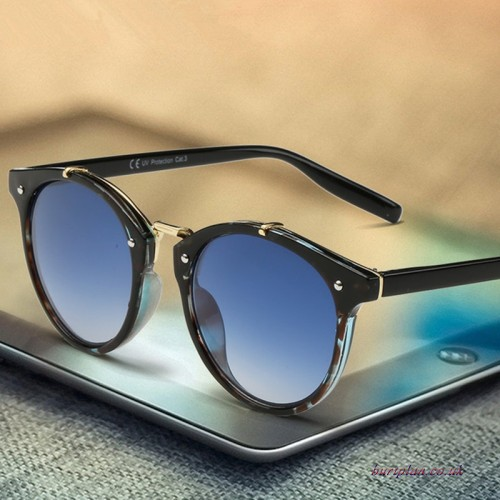sunglasses: (3, 144, 500, 419)
